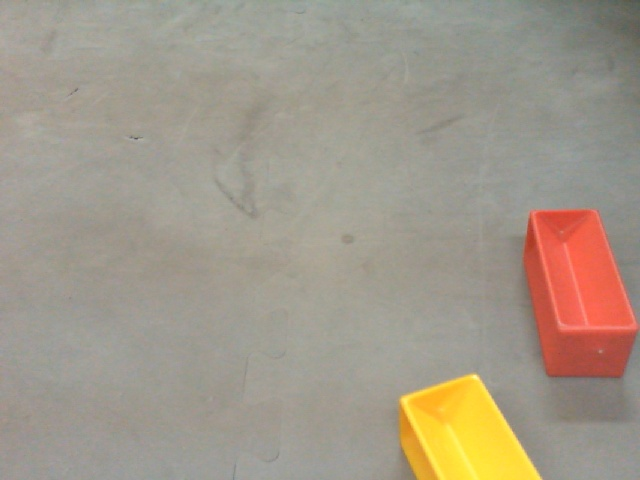RedSample: (521, 208, 640, 378)
YellowSample: (399, 373, 546, 480)
